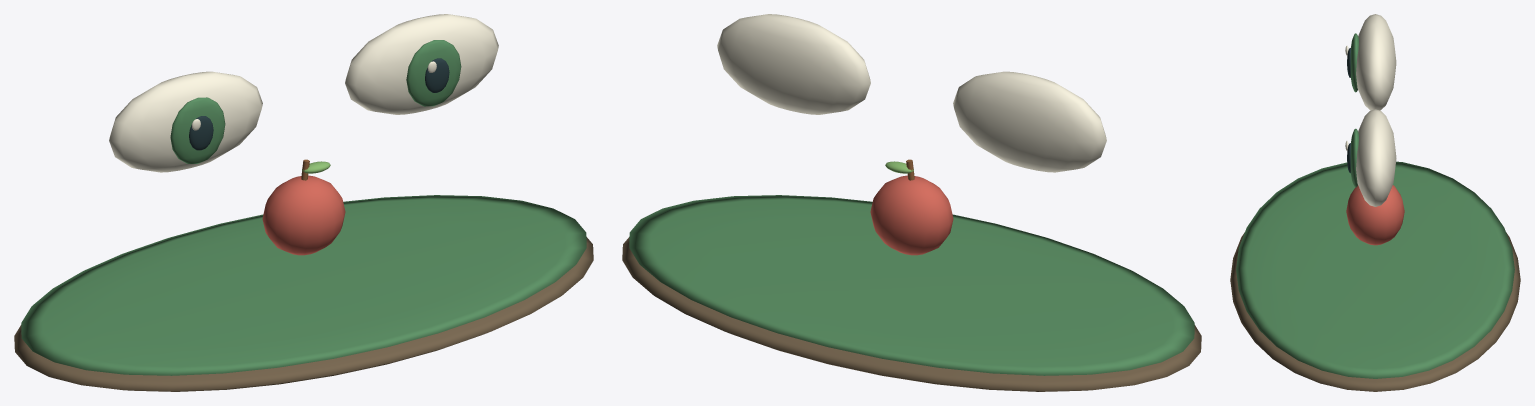
File: complete-first-catch-sight.glb
3 views of the same model, side by side, from view 1: azimuth 30°, elevation 25°; view 2: azimuth 150°, elevation 25°; view 3: azimuth 270°, elevation 25° (orthographic). The views are drawn at different scales.
Parts seen in each view (by area): view 1: complete-first-catch-sight_surface_01, complete-first-catch-sight_surface_02, complete-first-catch-sight_surface_00, complete-first-catch-sight_surface_04, complete-first-catch-sight_surface_03; view 2: complete-first-catch-sight_surface_01, complete-first-catch-sight_surface_02, complete-first-catch-sight_surface_00, complete-first-catch-sight_surface_04; view 3: complete-first-catch-sight_surface_01, complete-first-catch-sight_surface_02, complete-first-catch-sight_surface_00, complete-first-catch-sight_surface_04.
Boxes of the visible parts, bbox=[...] form: complete-first-catch-sight_surface_01: bbox=[21, 40, 586, 375]; complete-first-catch-sight_surface_02: bbox=[109, 14, 498, 172]; complete-first-catch-sight_surface_00: bbox=[14, 237, 593, 391]; complete-first-catch-sight_surface_04: bbox=[262, 175, 345, 255]; complete-first-catch-sight_surface_03: bbox=[189, 58, 449, 150]; complete-first-catch-sight_surface_01: bbox=[629, 195, 1194, 375]; complete-first-catch-sight_surface_02: bbox=[717, 14, 1106, 172]; complete-first-catch-sight_surface_00: bbox=[622, 237, 1201, 391]; complete-first-catch-sight_surface_04: bbox=[870, 175, 953, 255]; complete-first-catch-sight_surface_01: bbox=[1236, 33, 1514, 378]; complete-first-catch-sight_surface_02: bbox=[1345, 14, 1396, 206]; complete-first-catch-sight_surface_00: bbox=[1230, 232, 1520, 391]; complete-first-catch-sight_surface_04: bbox=[1346, 185, 1404, 245].
Size of the model in its own units: 4.56 by 2.1 by 2.5.
